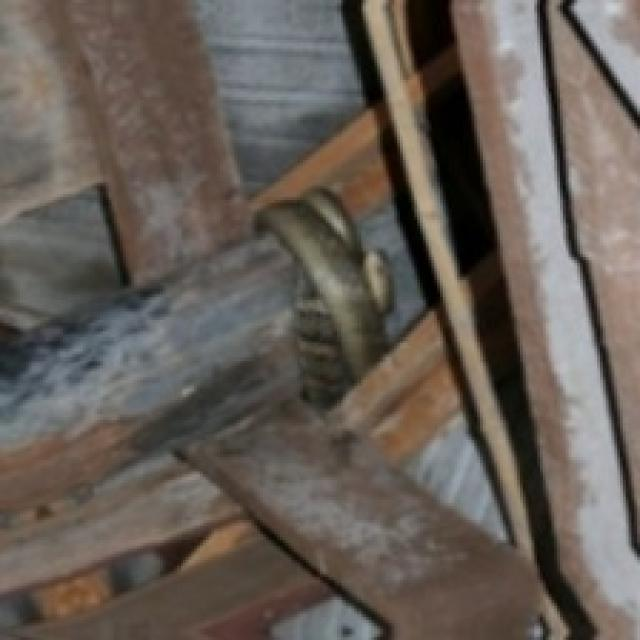king cobra: (254, 189, 391, 403)
